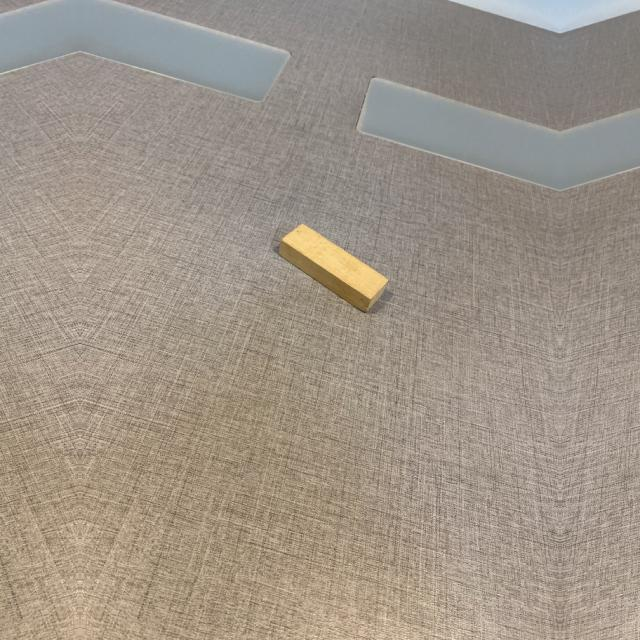jenga: (279, 224, 388, 310)
